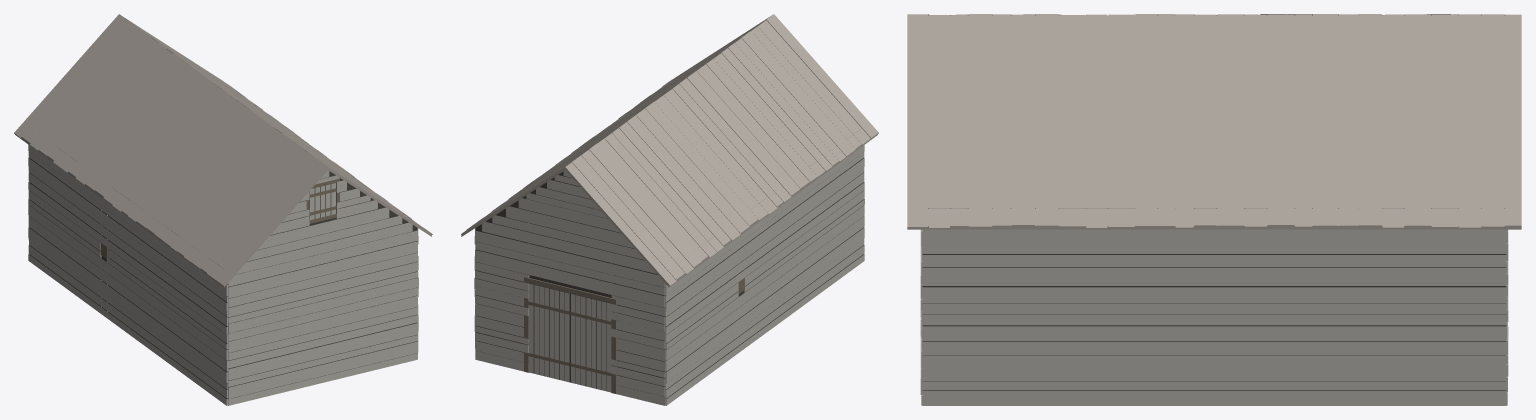
The model's file is recon_1835_blk_school_section_tier_81_a2_08__inferred_1835.glb.
3 renders of one model, left to right at view 1: azimuth 30°, elevation 25°; view 2: azimuth 150°, elevation 25°; view 3: azimuth 270°, elevation 25°, orthographic. The views are drawn at different scales.
Parts seen in each view (by area): view 1: recon_1835_blk_school_section_tier_81_a2_08__inferred_1835; view 2: recon_1835_blk_school_section_tier_81_a2_08__inferred_1835; view 3: recon_1835_blk_school_section_tier_81_a2_08__inferred_1835.
Part boxes in pixels (box(x1,y1,x2,y2)): recon_1835_blk_school_section_tier_81_a2_08__inferred_1835: box(14, 14, 432, 405); recon_1835_blk_school_section_tier_81_a2_08__inferred_1835: box(461, 14, 878, 405); recon_1835_blk_school_section_tier_81_a2_08__inferred_1835: box(907, 14, 1521, 405).
Bounding box in the file's own units: 7.38 × 7.35 × 12.66.
